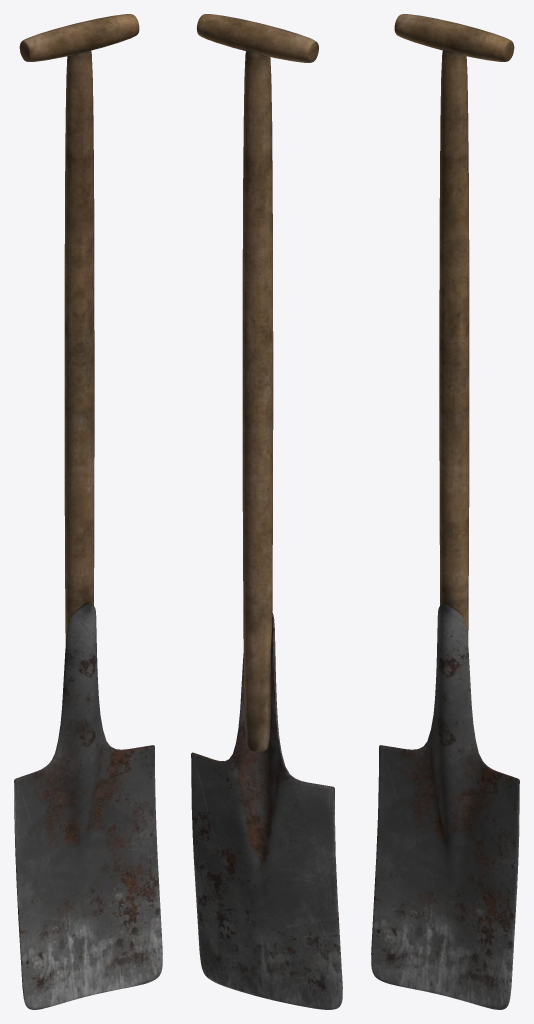
File: spade.glb
3 views of the same model, side by side, from view 1: azimuth 30°, elevation 25°; view 2: azimuth 150°, elevation 25°; view 3: azimuth 330°, elevation 25° (orthographic). The views are drawn at different scales.
Visible parts, largest first — view 1: rusted_spade_01; view 2: rusted_spade_01; view 3: rusted_spade_01.
Part boxes in pixels (left/top/right/bottom): rusted_spade_01: left=14, top=14, right=162, bottom=1009; rusted_spade_01: left=191, top=14, right=342, bottom=1009; rusted_spade_01: left=371, top=14, right=519, bottom=1009.
Bounding box in the file's own units: 0.1681 × 1.1 × 0.0455.
Materials: 1 (1 with a texture image).
